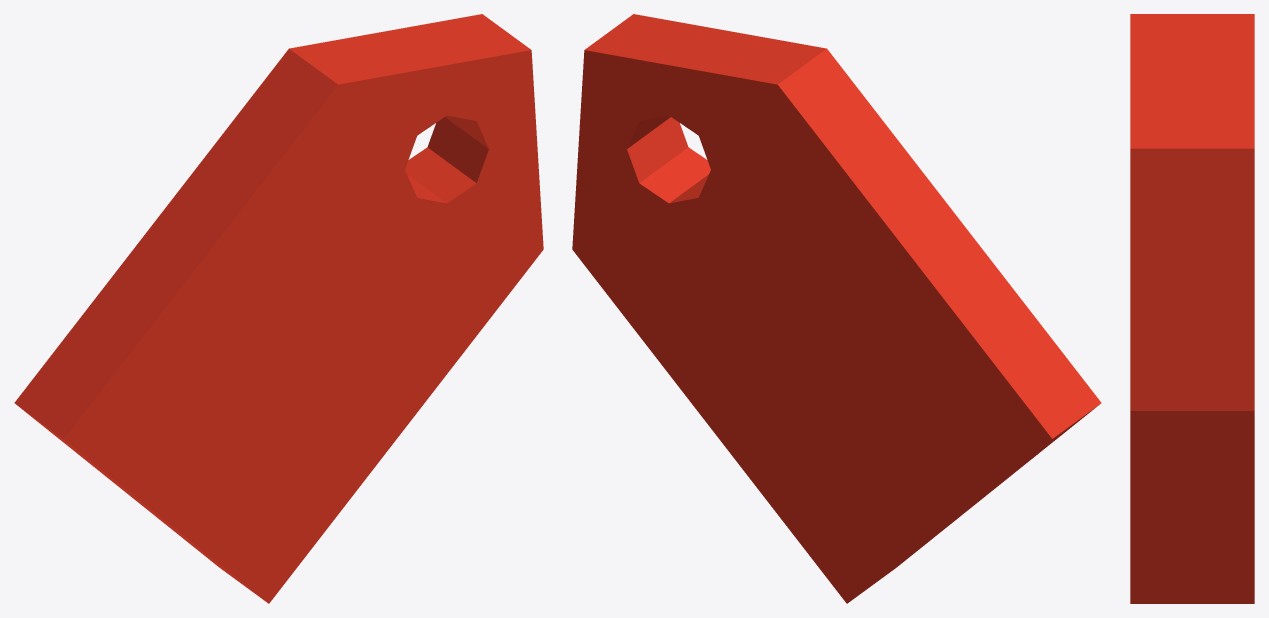
Rendered from Icon_Label.fbx.
3 renders of one model, left to right at view 1: azimuth 30°, elevation 25°; view 2: azimuth 150°, elevation 25°; view 3: azimuth 270°, elevation 25°, orthographic. The views are drawn at different scales.
Visible parts, largest first — view 1: Icon_Label; view 2: Icon_Label; view 3: Icon_Label.
Boxes of the visible parts, bbox=[...] form: Icon_Label: bbox=[14, 14, 543, 603]; Icon_Label: bbox=[572, 14, 1101, 603]; Icon_Label: bbox=[1130, 14, 1254, 603].
Size of the model in its own units: 67.88 by 67.88 by 12.06.
